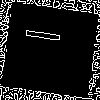I: (25, 25, 69, 46)
